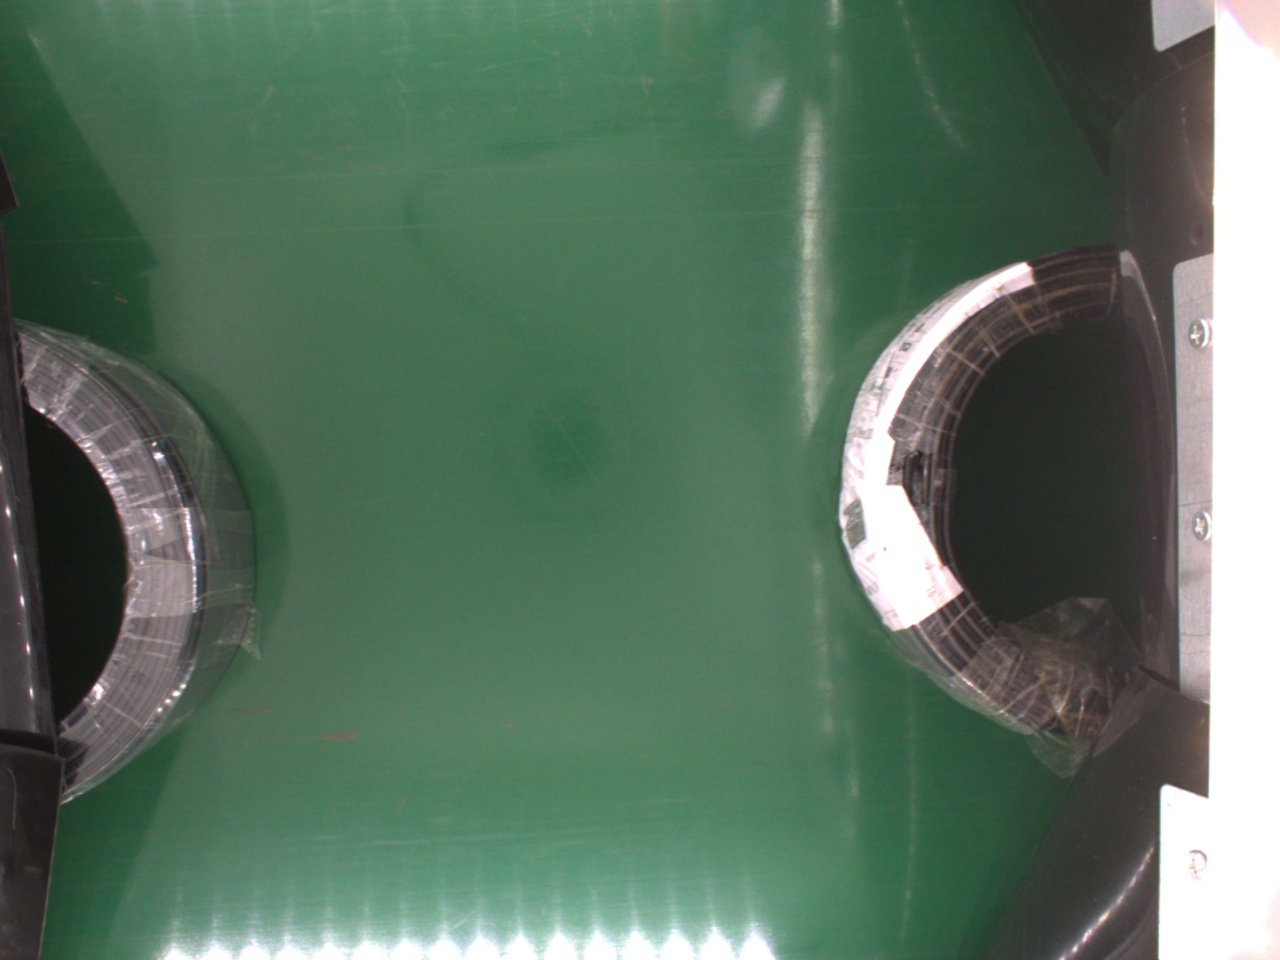black: (830, 246, 1169, 754), (18, 327, 250, 806)
